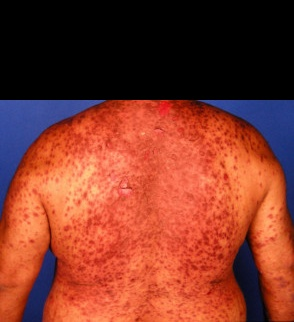SJS-TEN: (0, 36, 294, 322)
